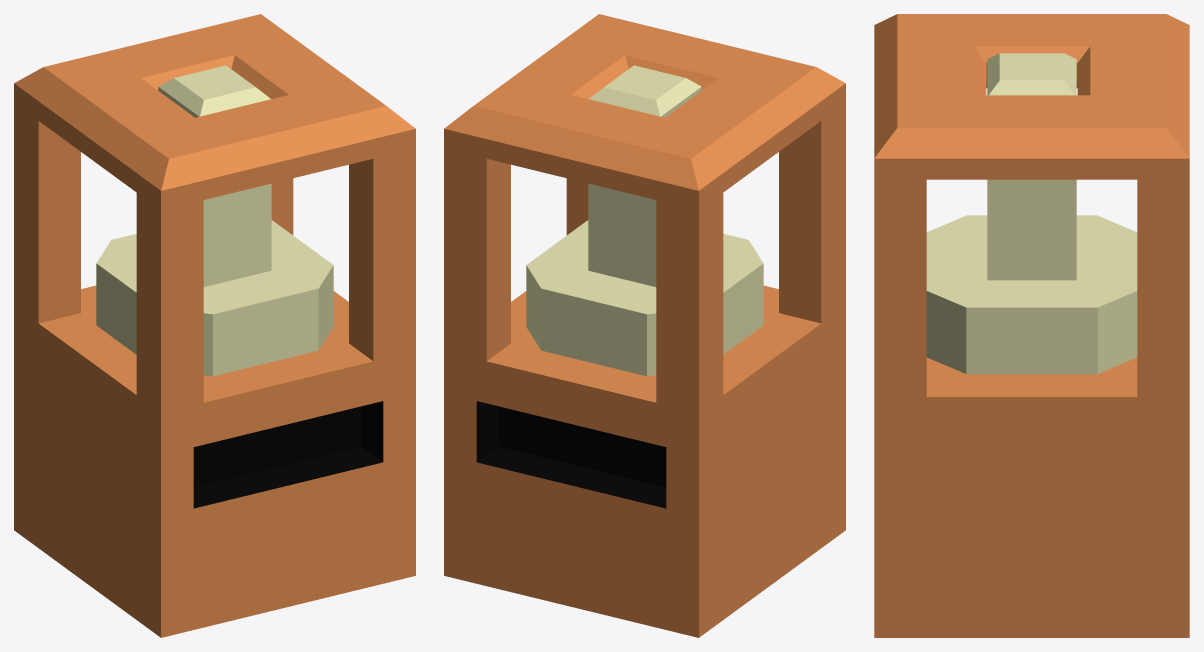
Rendered from Press.fbx.
3 views of the same model, side by side, from view 1: azimuth 30°, elevation 25°; view 2: azimuth 150°, elevation 25°; view 3: azimuth 270°, elevation 25° (orthographic). The views are drawn at different scales.
Parts seen in each view (by area): view 1: Base, Press; view 2: Base, Press; view 3: Base, Press.
Part boxes in pixels (box(x1,y1,x2,y2)): Base: box(14, 14, 415, 637); Press: box(96, 65, 333, 376); Base: box(444, 14, 845, 637); Press: box(526, 65, 763, 376); Base: box(874, 14, 1189, 637); Press: box(926, 53, 1137, 374).
Bounding box in the file's own units: 100 × 176 × 100.
